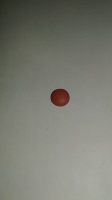Dolorex: (49, 88, 70, 107)
